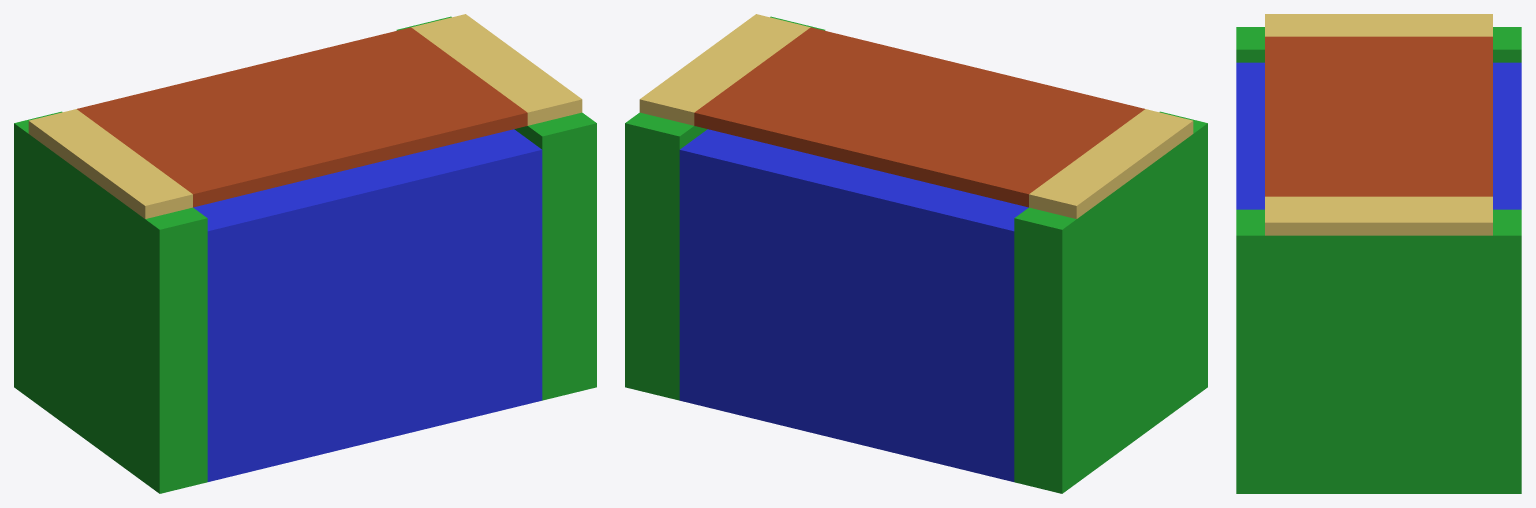
Rendered from bridge_edge.glb.
3 views of the same model, side by side, from view 1: azimuth 30°, elevation 25°; view 2: azimuth 150°, elevation 25°; view 3: azimuth 270°, elevation 25° (orthographic). The views are drawn at different scales.
Visible parts, largest first — view 1: bridge_edge; view 2: bridge_edge; view 3: bridge_edge.
Part boxes in pixels (x1,y1,x2,y2): bridge_edge: [14, 14, 596, 493]; bridge_edge: [625, 14, 1207, 493]; bridge_edge: [1236, 14, 1521, 493].
Bounding box in the file's own units: 0.866 × 0.525 × 0.5.
